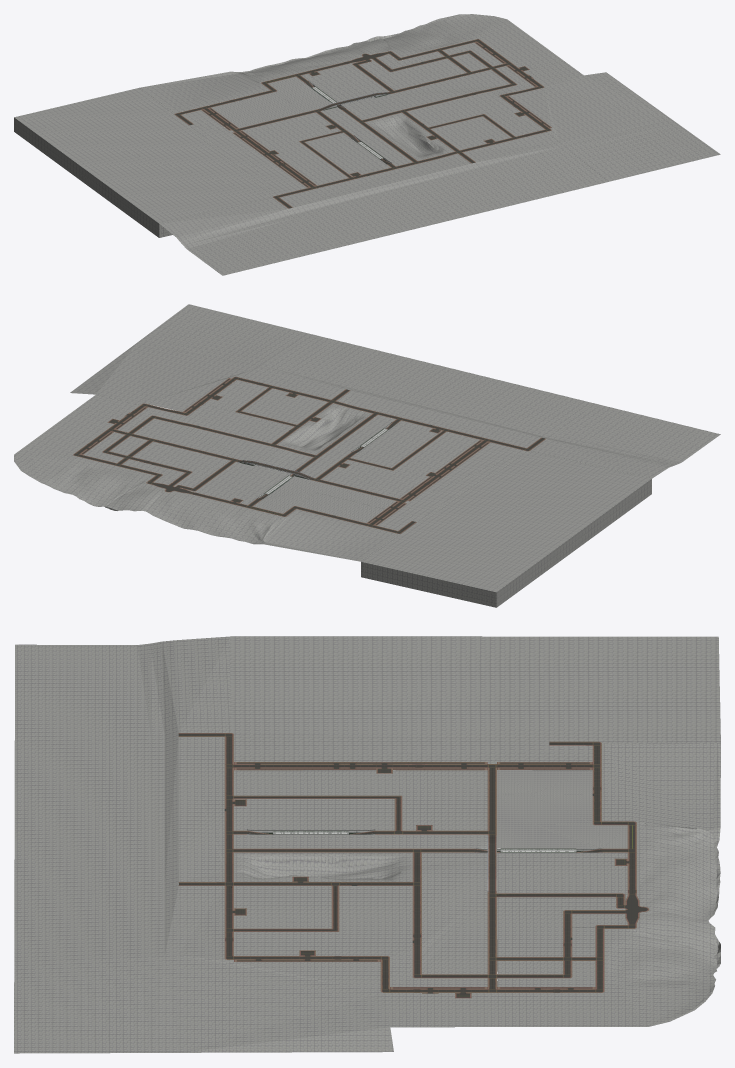
The model's file is road.fbx.
The picture shows the model from 3 angles, top to bottom: view 1: azimuth 30°, elevation 25°; view 2: azimuth 150°, elevation 25°; view 3: azimuth 270°, elevation 25°; orthographic projection. The views are drawn at different scales.
Visible parts, largest first — view 1: FLOOR-10, FLOOR-17, FLOOR-1, FLOOR-4, FLOOR-15, FLOOR-11, FLOOR-2, FLOOR-3, FLOOR-13, FLOOR-16, FLOOR-5, FLOOR-12 (+14 smaller); view 2: FLOOR-10, FLOOR-17, FLOOR-1, FLOOR-4, FLOOR-2, FLOOR-15, FLOOR-11, FLOOR-3, FLOOR-13, FLOOR-16, FLOOR-5, FLOOR-12 (+13 smaller); view 3: FLOOR-10, FLOOR-17, FLOOR-1, FLOOR-4, FLOOR-2, FLOOR-15, FLOOR-11, FLOOR-3, FLOOR-13, FLOOR-16, FLOOR-5, FLOOR-12 (+25 smaller).
Boxes of the visible parts, x1,y1,x2,y2 form: FLOOR-10: [159, 72, 720, 275]; FLOOR-17: [14, 87, 306, 237]; FLOOR-1: [231, 14, 564, 81]; FLOOR-4: [301, 61, 509, 119]; FLOOR-15: [242, 112, 347, 185]; FLOOR-11: [407, 66, 544, 136]; FLOOR-2: [140, 71, 269, 113]; FLOOR-3: [211, 76, 332, 128]; FLOOR-13: [365, 112, 454, 160]; FLOOR-16: [305, 132, 390, 176]; FLOOR-5: [359, 58, 466, 90]; FLOOR-12: [431, 116, 511, 150]; FLOOR-10: [70, 304, 720, 478]; FLOOR-17: [361, 442, 651, 607]; FLOOR-1: [14, 409, 281, 544]; FLOOR-4: [134, 418, 312, 505]; FLOOR-2: [263, 509, 397, 561]; FLOOR-15: [321, 432, 479, 498]; FLOOR-11: [117, 380, 294, 443]; FLOOR-3: [253, 476, 396, 522]; FLOOR-13: [277, 403, 372, 454]; FLOOR-16: [351, 420, 441, 467]; FLOOR-5: [133, 441, 230, 487]; FLOOR-12: [242, 388, 327, 424]; FLOOR-10: [14, 636, 393, 1053]; FLOOR-17: [230, 636, 720, 770]; FLOOR-1: [455, 823, 720, 1026]; FLOOR-4: [422, 852, 627, 974]; FLOOR-2: [602, 743, 720, 830]; FLOOR-15: [234, 770, 487, 830]; FLOOR-11: [234, 886, 487, 986]; FLOOR-3: [497, 770, 627, 848]; FLOOR-13: [234, 852, 412, 881]; FLOOR-16: [234, 799, 394, 830]; FLOOR-5: [497, 897, 625, 956]; FLOOR-12: [234, 886, 331, 928].
Size of the model in its own units: 3572736 by 113769 by 2611622.
